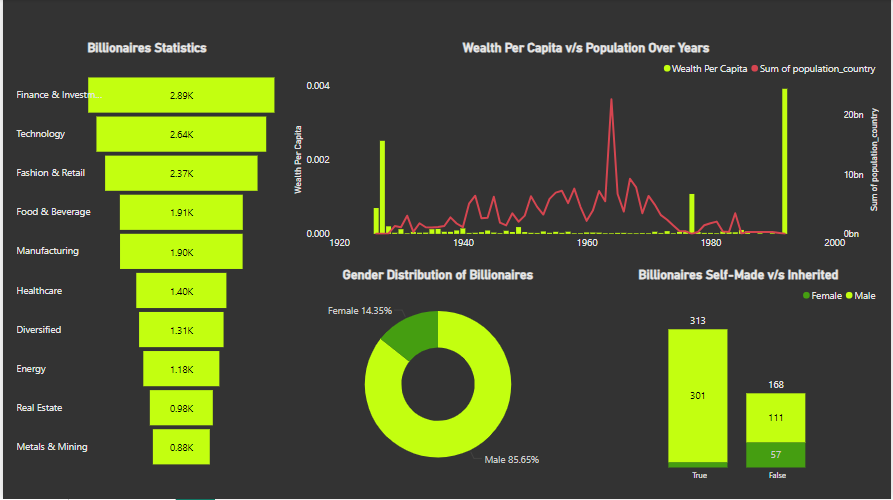

The page's visual inventory and layout, read from the dashboard file:
{"tool":"powerbi","page":{"name":"Dashboard2","canvas":[1350,760],"ordinal":1},"visuals":[{"type":"donutChart","title":"Gender Distribution of Billionaires","fields":{"Category":["Raw Data.gender"],"Y":["Calculations.Total Billionaires"]},"box":[436.2,407.4,449.9,334.4],"z":0},{"type":"columnChart","title":"Billionaires Self-Made v/s Inherited","fields":{"Y":["Calculations.Total Billionaires"],"Category":["Raw Data.selfMade"],"Series":["Raw Data.gender"]},"box":[899.8,407.4,436.2,334.4],"z":1000},{"type":"lineStackedColumnComboChart","title":"Wealth Per Capita v/s Population Over Years","fields":{"Category":["Raw Data.birthYear"],"Y2":["Sum(Raw Data.population_country)"],"Y":["Calculations.Wealth Per Capita"]},"box":[436.2,62.3,899.8,328.3],"z":2000},{"type":"funnel","title":"Billionaires Statistics","fields":{"Category":["Raw Data.industries"],"Y":["Sum(Raw Data.total_tax_rate_country)"]},"box":[15.2,62.3,407.4,679.4],"z":3000}]}

Visuals, with their boxes in screenshot pixels (x1, y1, x2, y2), scaled from the page's 1350x760 canvas onto the 893x500 screenshot:
"Gender Distribution of Billionaires" donutChart: (289,268,586,488)
"Billionaires Self-Made v/s Inherited" columnChart: (595,268,884,488)
"Wealth Per Capita v/s Population Over Years" lineStackedColumnComboChart: (289,41,884,257)
"Billionaires Statistics" funnel: (10,41,280,488)
